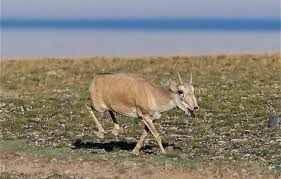saiga: (84, 63, 200, 159)
